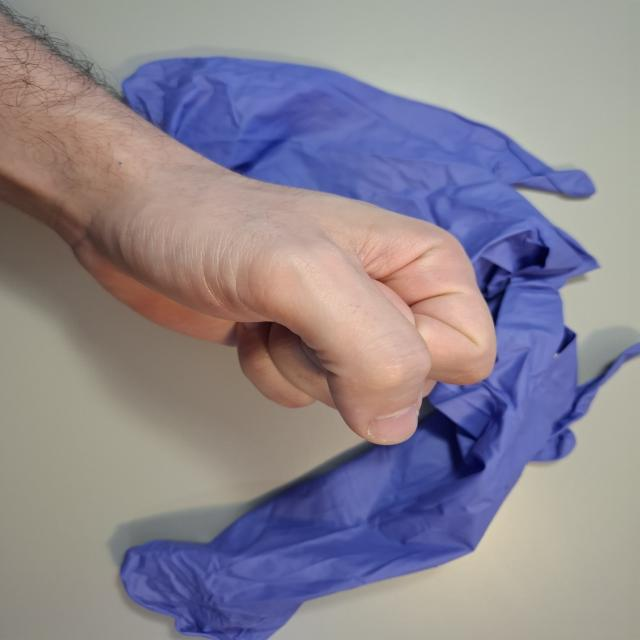glove_off: (50, 168, 501, 448)
